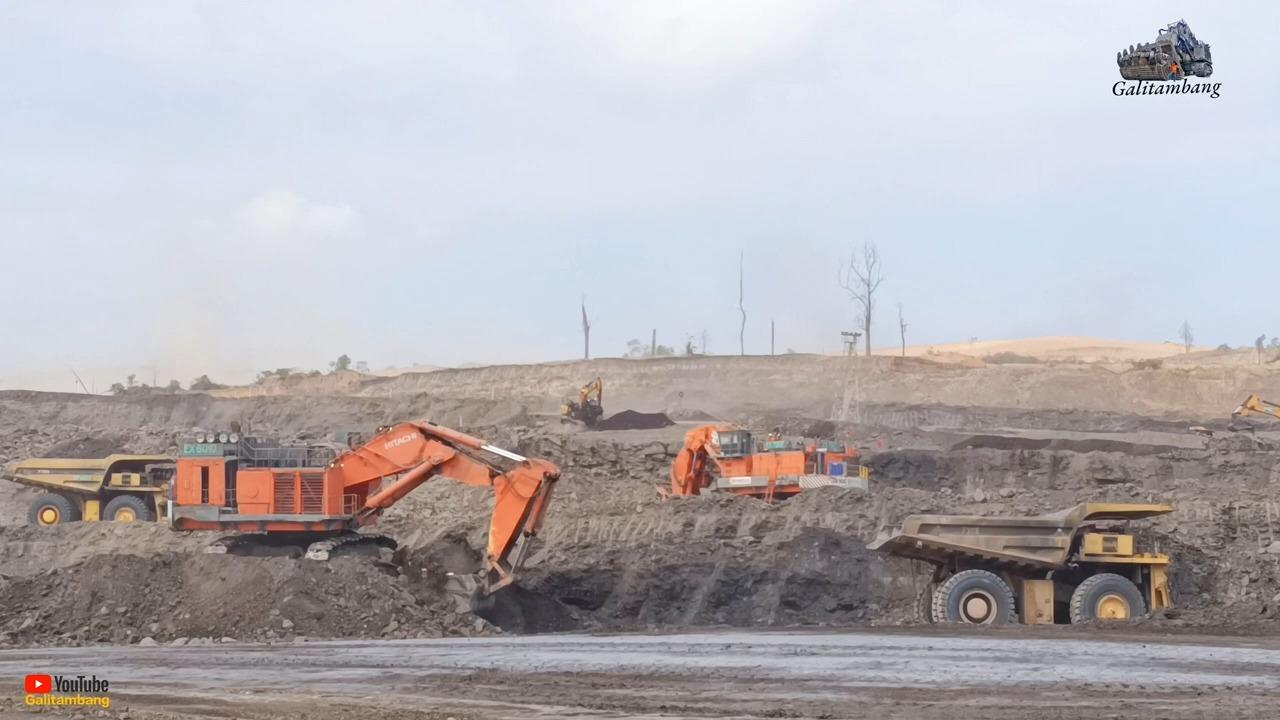Excavator: (157, 420, 559, 605), (657, 425, 868, 503)
HD-Truck: (867, 502, 1173, 623)
